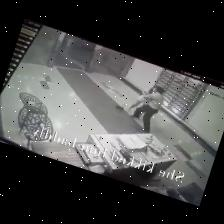person: (131, 86, 163, 132)
